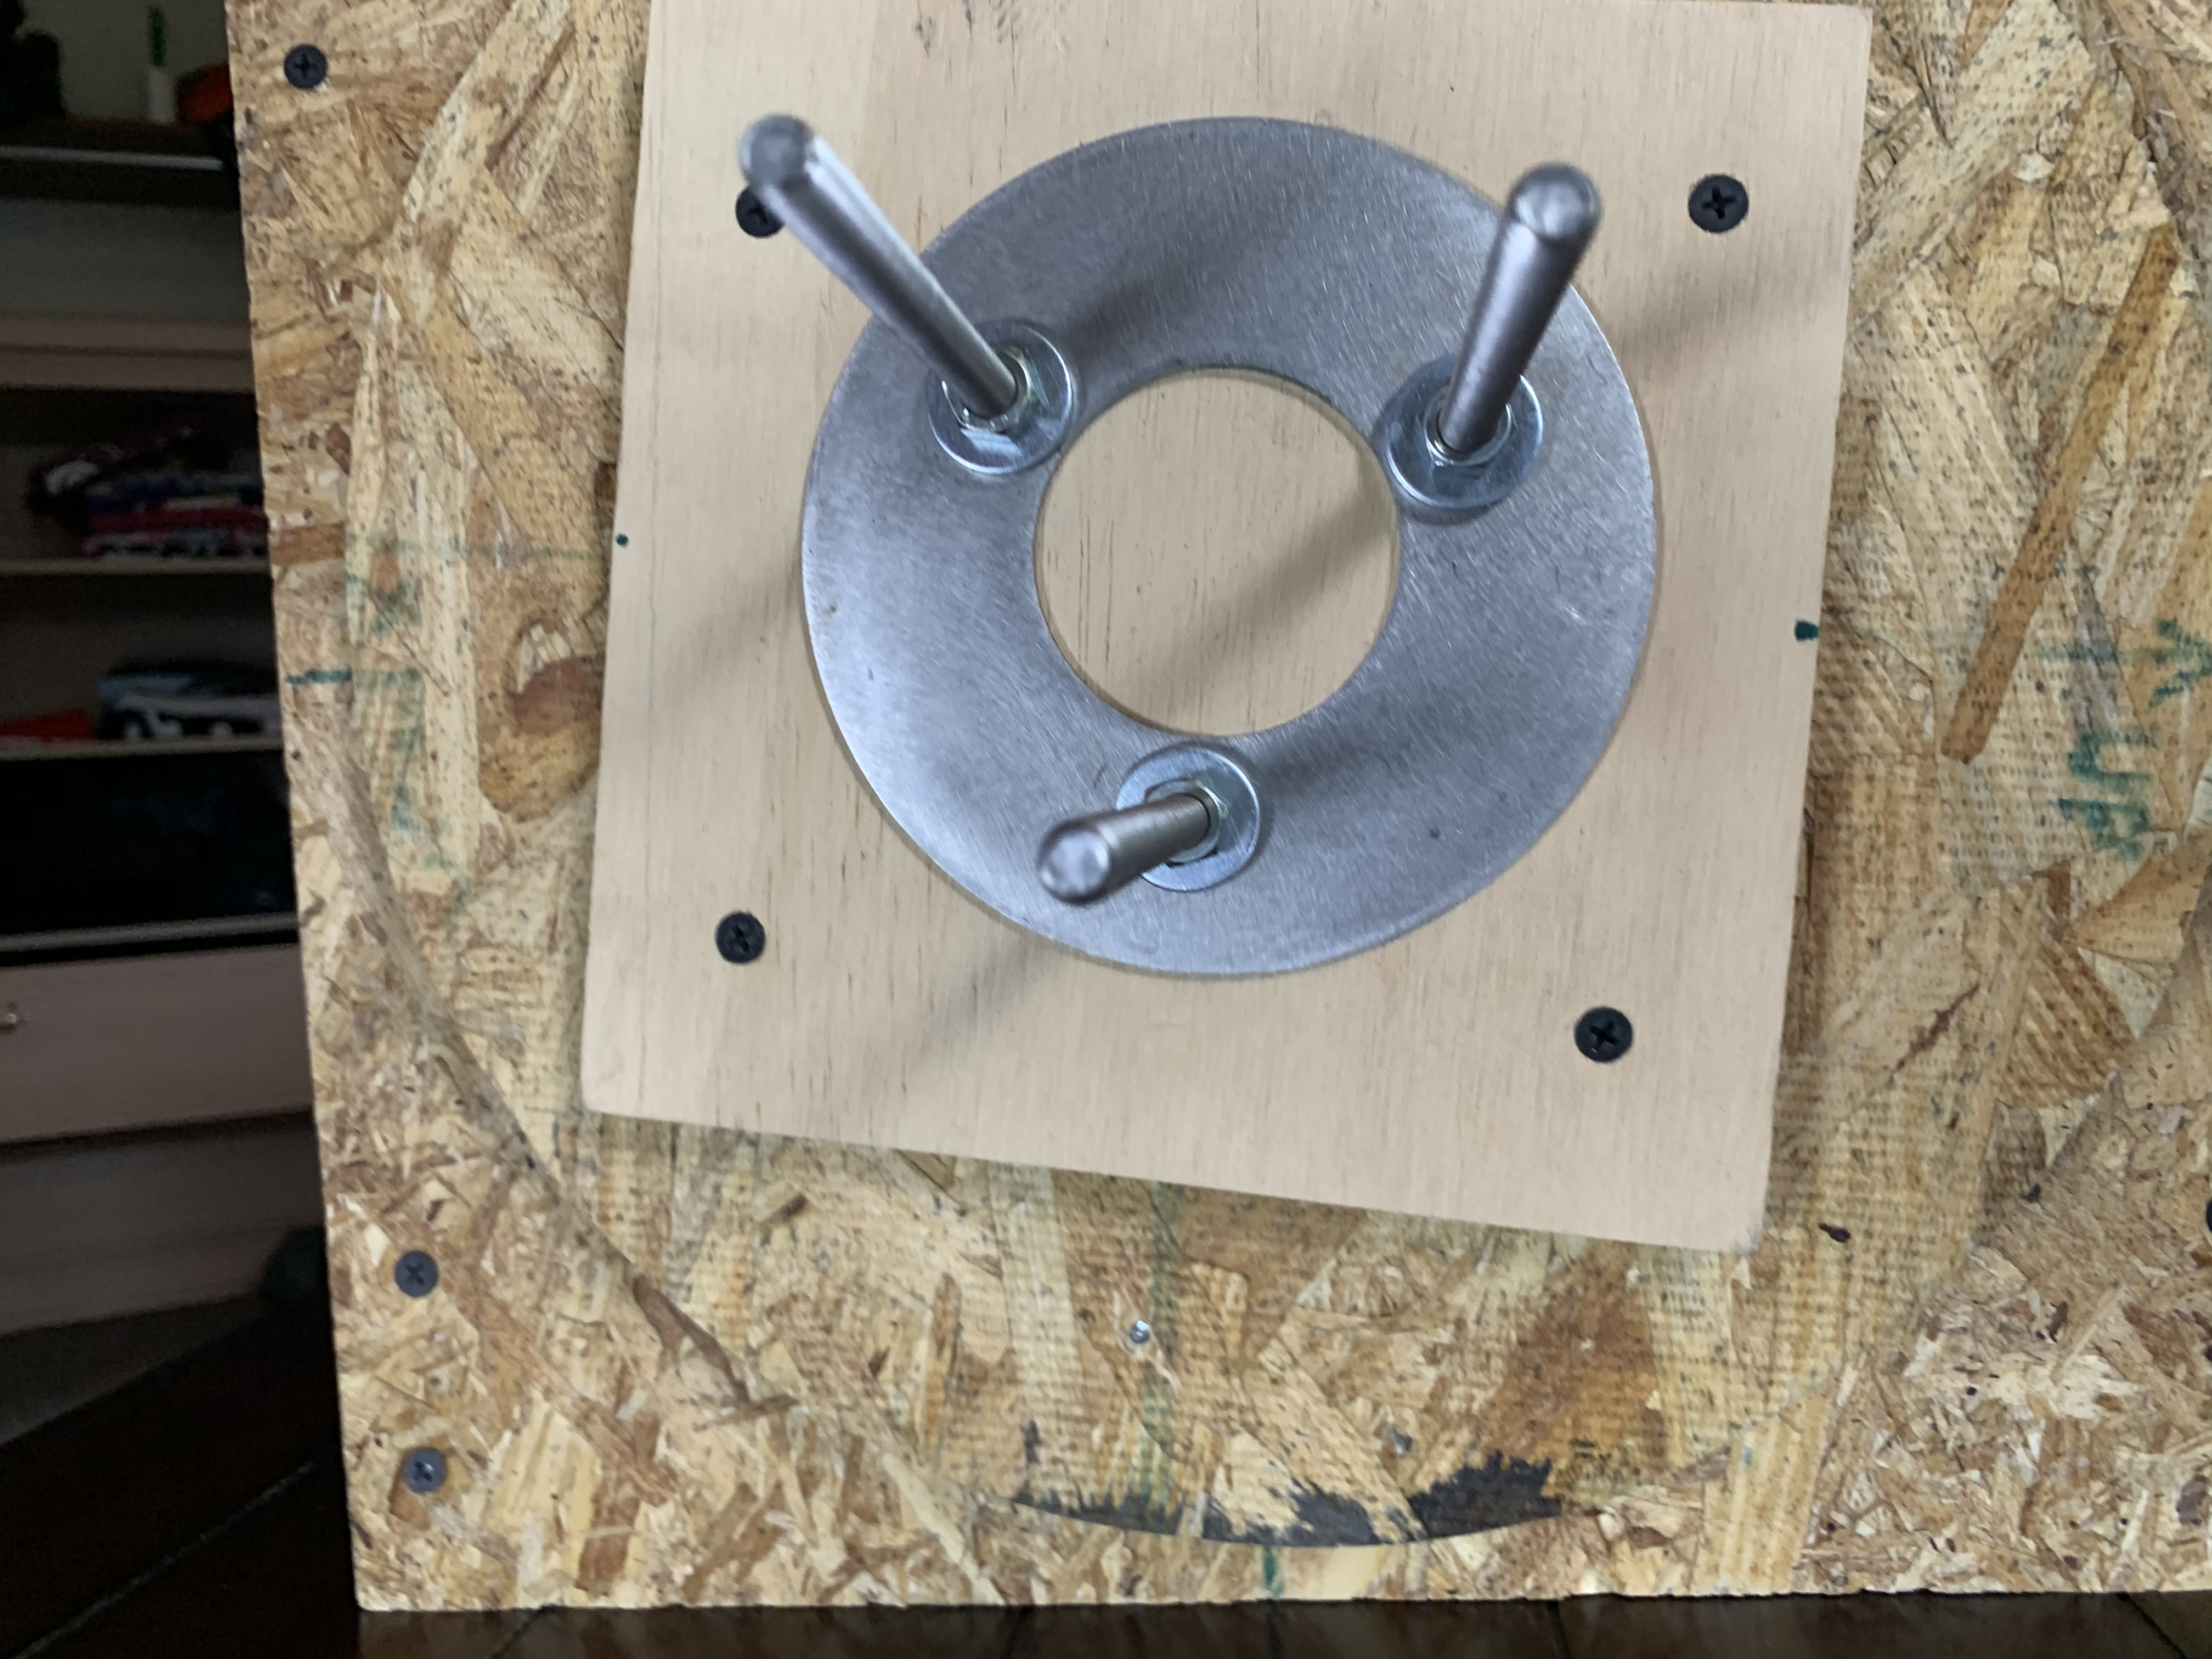bolt: (918, 315, 1087, 483), (1378, 356, 1545, 519), (1108, 739, 1273, 894)
